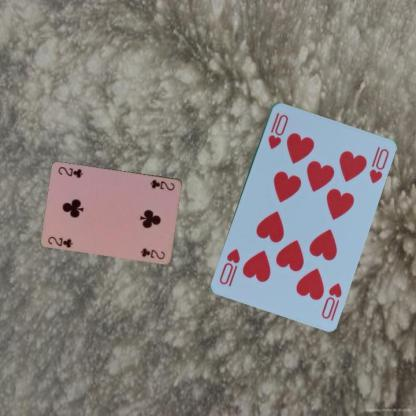10h: (265, 109, 290, 150), (318, 280, 343, 320)
2c: (148, 177, 176, 192), (46, 233, 74, 248)
